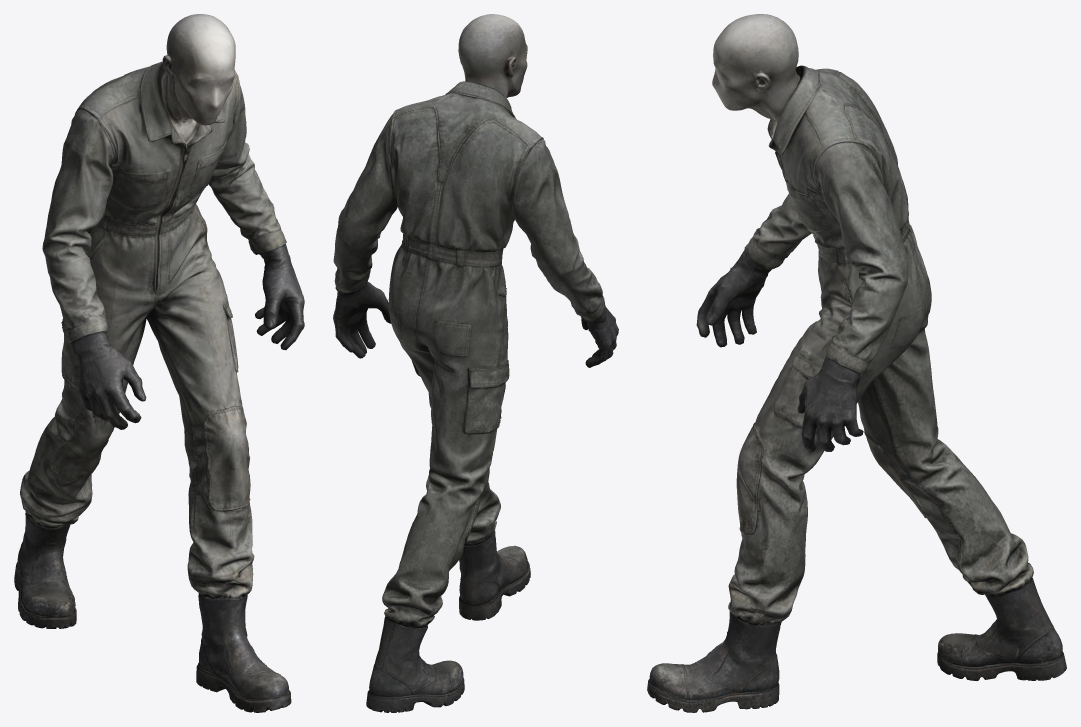
Rendered from janitor.glb.
The picture shows the model from 3 angles, left to right: view 1: azimuth 30°, elevation 25°; view 2: azimuth 150°, elevation 25°; view 3: azimuth 270°, elevation 25°; orthographic projection. The views are drawn at different scales.
Visible parts, largest first — view 1: tripo_node_9abc04c9-184e-4f42-b929-89f1f27e3a7c; view 2: tripo_node_9abc04c9-184e-4f42-b929-89f1f27e3a7c; view 3: tripo_node_9abc04c9-184e-4f42-b929-89f1f27e3a7c.
Part boxes in pixels (x1=…): tripo_node_9abc04c9-184e-4f42-b929-89f1f27e3a7c: x1=14, y1=14, x2=304, y2=712; tripo_node_9abc04c9-184e-4f42-b929-89f1f27e3a7c: x1=333, y1=14, x2=618, y2=712; tripo_node_9abc04c9-184e-4f42-b929-89f1f27e3a7c: x1=647, y1=14, x2=1066, y2=712.
Size of the model in its own units: 0.4045 by 0.9796 by 0.5516.
1 material, 1 textured.
